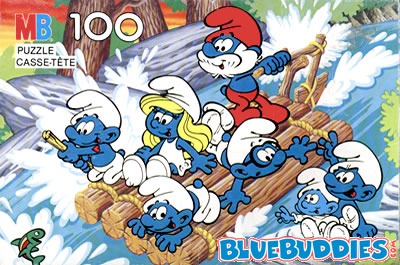smurf: (192, 6, 291, 124), (126, 74, 213, 186), (194, 101, 294, 188), (125, 175, 221, 251), (61, 89, 125, 184), (325, 140, 385, 238), (278, 163, 343, 238)
